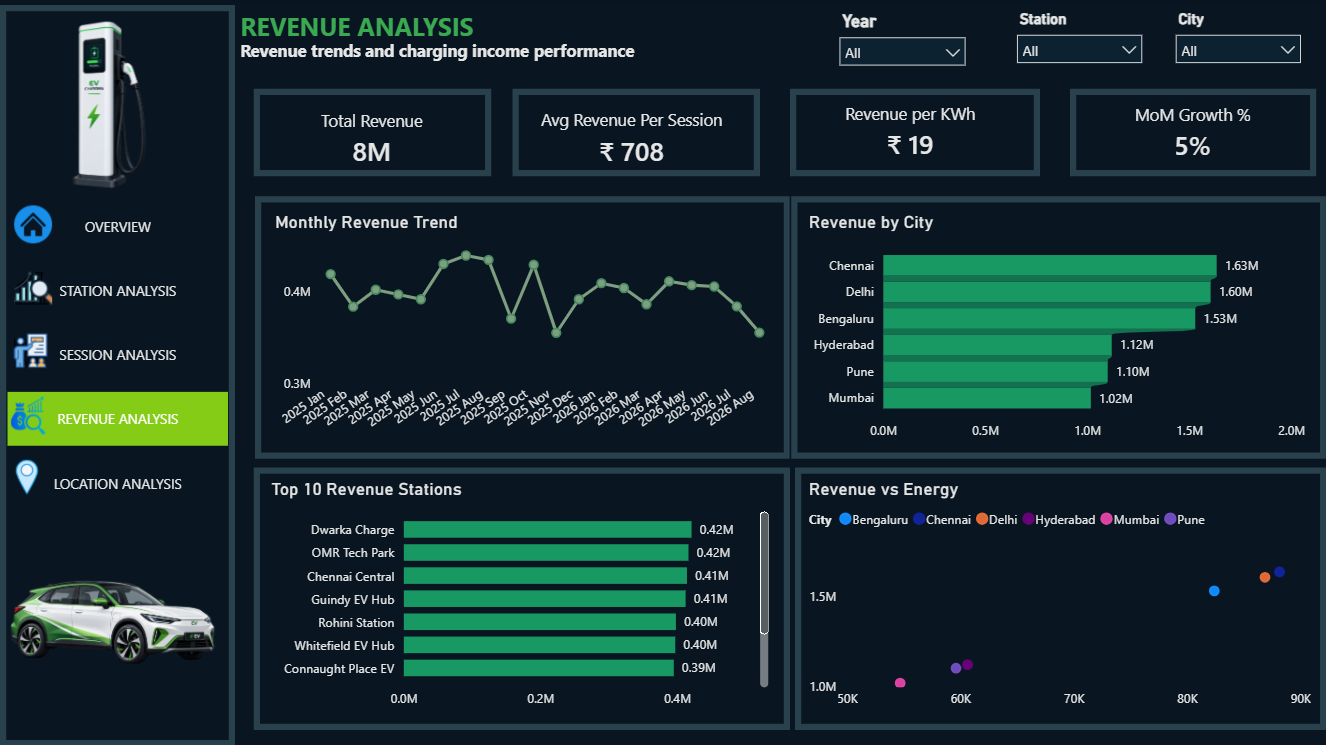

The dashboard page shown, as its layout file describes it:
{"tool":"powerbi","page":{"name":"REVENUE ANALYSIS","canvas":[1280,720],"ordinal":3},"visuals":[{"type":"shape","box":[0,4.6,226.8,715.4],"z":0},{"type":"pageNavigator","box":[7.2,191.8,213.5,300.4],"z":1000},{"type":"textbox","box":[226.8,4.8,739.5,42.2],"z":2000},{"type":"textbox","box":[226.8,32.6,744.4,49.5],"z":3000},{"type":"actionButton","box":[10,253.8,42.5,50],"z":4000},{"type":"actionButton","box":[9.7,194.2,44.6,44.6],"z":5000},{"type":"actionButton","box":[10,256.3,45,45],"z":6000},{"type":"actionButton","box":[10.1,318.2,32.7,42.8],"z":7000},{"type":"actionButton","box":[10.1,321.9,32.7,40.2],"z":8000},{"type":"actionButton","box":[7.2,316.1,44.6,44.6],"z":9000},{"type":"actionButton","box":[4.8,378.8,44.6,44.6],"z":10000},{"type":"actionButton","box":[3.6,437.9,44.6,44.6],"z":11000},{"type":"actionButton","box":[16.9,14.5,196.6,173.7],"z":12000},{"type":"actionButton","box":[4.8,482.6,208.7,229.2],"z":13000},{"type":"cardVisual","fields":{"Data":["measure.Total Revenue"]},"box":[244.9,79.6,228,108.6],"z":14000},{"type":"shape","box":[244.9,85.7,229.2,84.5],"z":15000},{"type":"shape","box":[494.6,85.7,238.9,84.5],"z":16000},{"type":"shape","box":[762.5,85.7,241.3,84.5],"z":17000},{"type":"shape","box":[1032.7,85.7,237.7,84.5],"z":18000},{"type":"cardVisual","fields":{"Data":["measure.Avg Revenue Per Session"]},"box":[486.2,70,247.3,126.7],"z":19000},{"type":"cardVisual","fields":{"Data":["measure.Revenue per KWh"]},"box":[754,78.4,249.7,97.7],"z":20000},{"type":"cardVisual","fields":{"Data":["measure.MoM Growth %"]},"box":[1029.1,70,244.9,115.8],"z":21000},{"type":"shape","box":[246.1,189.4,516.4,253.4],"z":22000},{"type":"slicer","fields":{"Values":["EV_Charging_Station.City"]},"box":[1124.4,4.8,141.2,57.9],"z":23000},{"type":"shape","box":[763.6,189.4,516.4,253.4],"z":24000},{"type":"shape","box":[244.9,451.2,517.6,253.4],"z":25000},{"type":"shape","box":[767.3,451.2,512.7,253.4],"z":26000},{"type":"lineChart","title":"Monthly Revenue Trend ","fields":{"Category":["Calander.Year_Month"],"Y":["measure.Completed Revenue"]},"box":[260.6,203.9,486.2,230.4],"z":27000},{"type":"barChart","title":"Revenue by City","fields":{"Category":["EV_Charging_Station.City"],"Y":["measure.Completed Revenue"]},"box":[775.7,203.9,489.8,230.4],"z":28000},{"type":"barChart","title":"Top 10 Revenue Stations","fields":{"Y":["measure.Completed Revenue"],"Category":["EV_Charging_Station.Station_Name"]},"box":[256.6,462.4,489.9,230.5],"z":29000},{"type":"scatterChart","title":"Revenue vs Energy","fields":{"X":["Sum(EV_Charging_Station.Energy_Consumed_kWh)"],"Series":["EV_Charging_Station.City"],"Y":["measure.Completed Revenue"]},"box":[775.7,462.1,494.6,230.4],"z":30000},{"type":"slicer","fields":{"Values":["Calander.Year"]},"box":[799.9,4.8,142.4,65.1],"z":31000},{"type":"slicer","fields":{"Values":["EV_Charging_Station.Station_Name"]},"box":[971.2,4.8,141.2,57.9],"z":33000}]}

Visuals, with their boxes in screenshot pixels (x1, y1, x2, y2), scaled from the page's 1280x720 canvas onto the 1326x745 screenshot:
shape: [left=0, top=5, right=235, bottom=744]
pageNavigator: [left=7, top=198, right=229, bottom=509]
textbox: [left=235, top=5, right=1001, bottom=49]
textbox: [left=235, top=34, right=1006, bottom=85]
actionButton: [left=10, top=263, right=54, bottom=314]
actionButton: [left=10, top=201, right=56, bottom=247]
actionButton: [left=10, top=265, right=57, bottom=312]
actionButton: [left=10, top=329, right=44, bottom=374]
actionButton: [left=10, top=333, right=44, bottom=375]
actionButton: [left=7, top=327, right=54, bottom=373]
actionButton: [left=5, top=392, right=51, bottom=438]
actionButton: [left=4, top=453, right=50, bottom=499]
actionButton: [left=18, top=15, right=221, bottom=195]
actionButton: [left=5, top=499, right=221, bottom=737]
cardVisual - measure.Total Revenue: [left=254, top=82, right=490, bottom=195]
shape: [left=254, top=89, right=491, bottom=176]
shape: [left=512, top=89, right=760, bottom=176]
shape: [left=790, top=89, right=1040, bottom=176]
shape: [left=1070, top=89, right=1316, bottom=176]
cardVisual - measure.Avg Revenue Per Session: [left=504, top=72, right=760, bottom=204]
cardVisual - measure.Revenue per KWh: [left=781, top=81, right=1040, bottom=182]
cardVisual - measure.MoM Growth %: [left=1066, top=72, right=1320, bottom=192]
shape: [left=255, top=196, right=790, bottom=458]
slicer - EV_Charging_Station.City: [left=1165, top=5, right=1311, bottom=65]
shape: [left=791, top=196, right=1325, bottom=458]
shape: [left=254, top=467, right=790, bottom=729]
shape: [left=795, top=467, right=1325, bottom=729]
"Monthly Revenue Trend " lineChart: [left=270, top=211, right=774, bottom=449]
"Revenue by City" barChart: [left=804, top=211, right=1311, bottom=449]
"Top 10 Revenue Stations" barChart: [left=266, top=478, right=773, bottom=717]
"Revenue vs Energy" scatterChart: [left=804, top=478, right=1316, bottom=717]
slicer - Calander.Year: [left=829, top=5, right=976, bottom=72]
slicer - EV_Charging_Station.Station_Name: [left=1006, top=5, right=1152, bottom=65]
